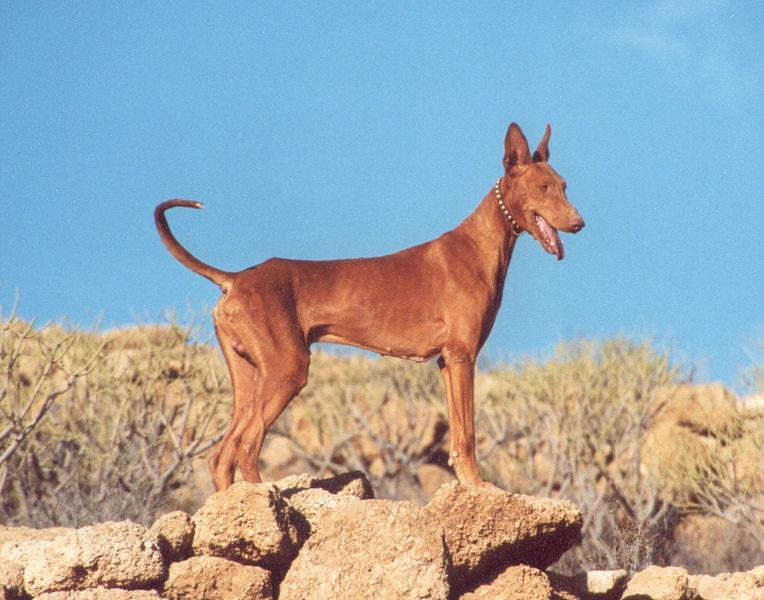Ibizan_hound: (151, 120, 588, 487)
